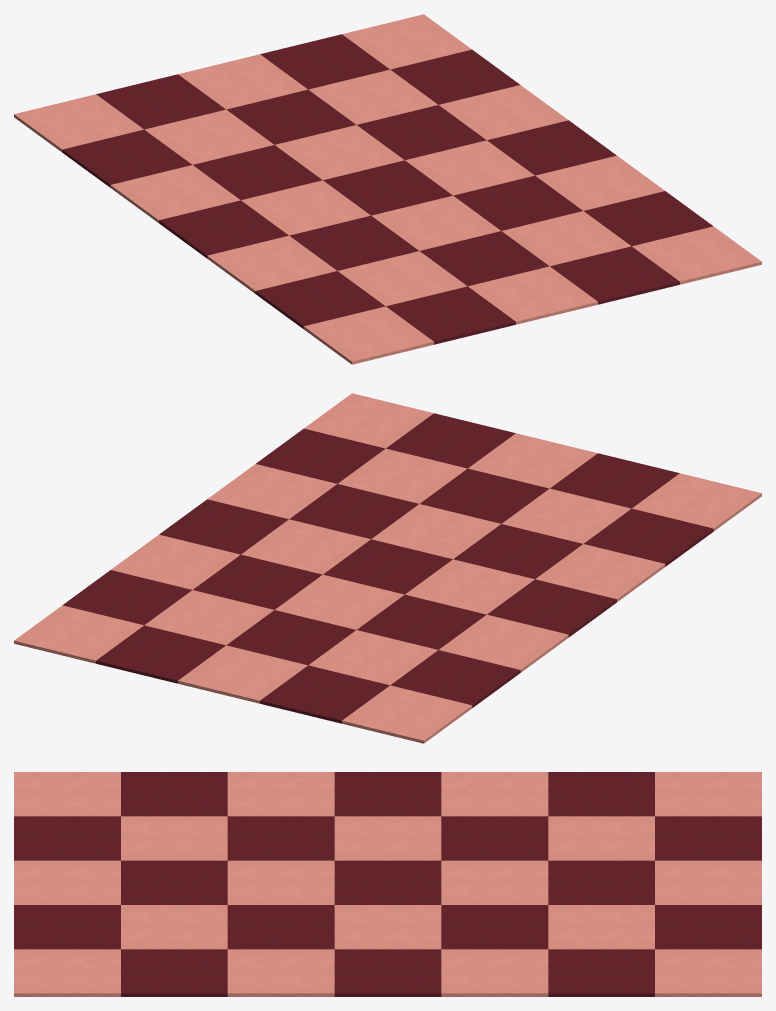
The model's file is alfombra-cuadros-rosa-rojo.glb.
The picture shows the model from 3 angles, top to bottom: view 1: azimuth 30°, elevation 25°; view 2: azimuth 150°, elevation 25°; view 3: azimuth 270°, elevation 25°; orthographic projection. The views are drawn at different scales.
Parts seen in each view (by area): view 1: alfombra-cuadros; view 2: alfombra-cuadros; view 3: alfombra-cuadros.
Part boxes in pixels (box(x1,y1,x2,y2)): alfombra-cuadros: box(14, 14, 761, 364); alfombra-cuadros: box(14, 393, 761, 743); alfombra-cuadros: box(14, 772, 761, 996).
Bounding box in the file's own units: 1.4 × 0.01 × 2.
2 materials, 2 textured.
